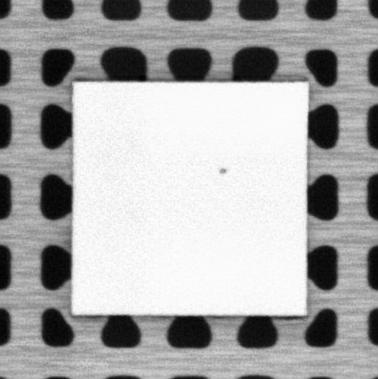DIE_INK: (217, 164, 228, 177)
